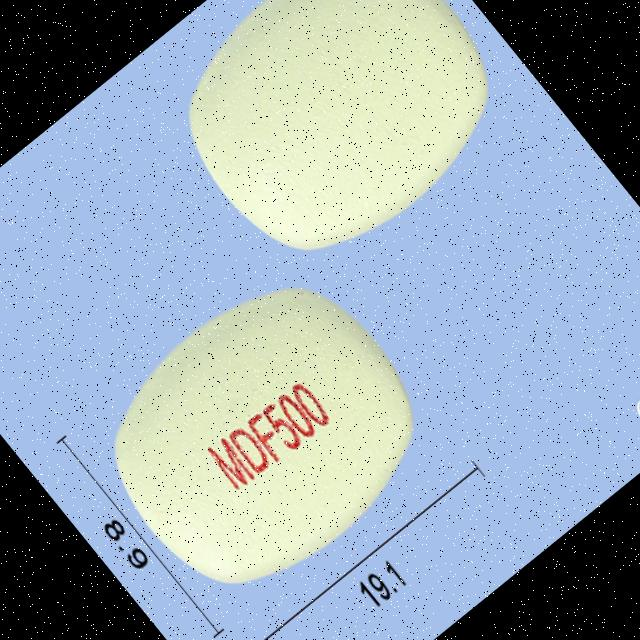Clarid: (61, 236, 462, 634)
